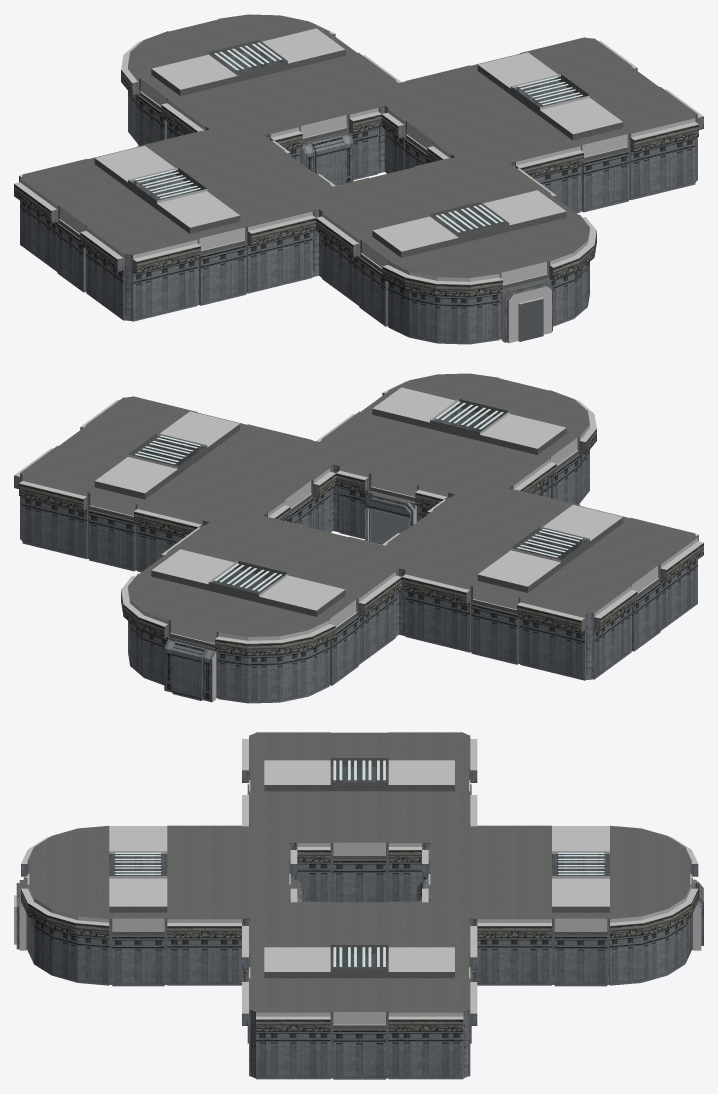
The model's file is poi_all_impl_bunker_warren_s01_r80_plusroom80_mesh_r80.fbx.
3 views of the same model, one above another, from view 1: azimuth 30°, elevation 25°; view 2: azimuth 150°, elevation 25°; view 3: azimuth 270°, elevation 25° (orthographic).
Parts seen in each view (by area): view 1: mesh_node; view 2: mesh_node; view 3: mesh_node.
Boxes of the visible parts, x1=… form: mesh_node: x1=14, y1=14, x2=703, y2=344; mesh_node: x1=14, y1=373, x2=703, y2=703; mesh_node: x1=14, y1=732, x2=703, y2=1079.
Size of the model in its own units: 49 by 6 by 49.9.
